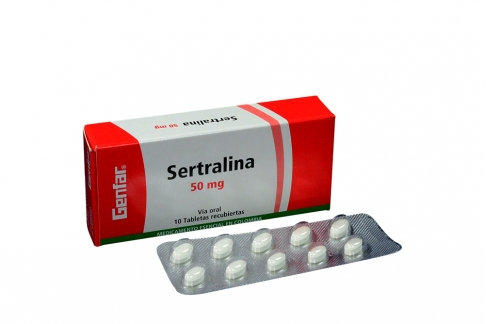Genfar: (97, 118, 331, 243)
